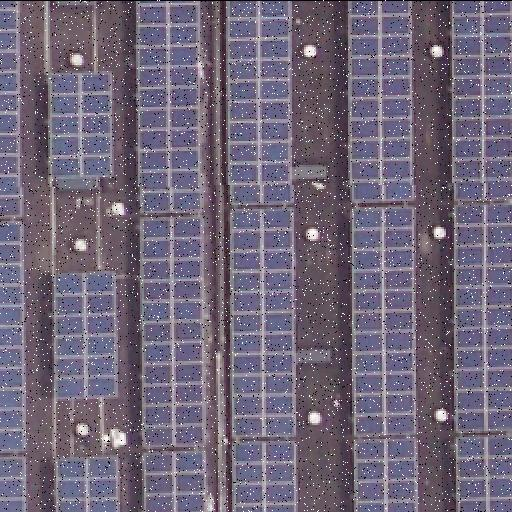solar-panel: (353, 205, 415, 435), (233, 208, 295, 436), (142, 218, 202, 446), (138, 0, 202, 212), (454, 201, 512, 431), (348, 0, 412, 200), (449, 0, 511, 200), (230, 0, 290, 204), (56, 270, 120, 398), (49, 71, 111, 177), (0, 222, 26, 450), (1, 0, 23, 216), (454, 433, 512, 511), (353, 440, 415, 512), (234, 440, 294, 512), (145, 452, 207, 512), (57, 456, 119, 512), (0, 457, 28, 511)
